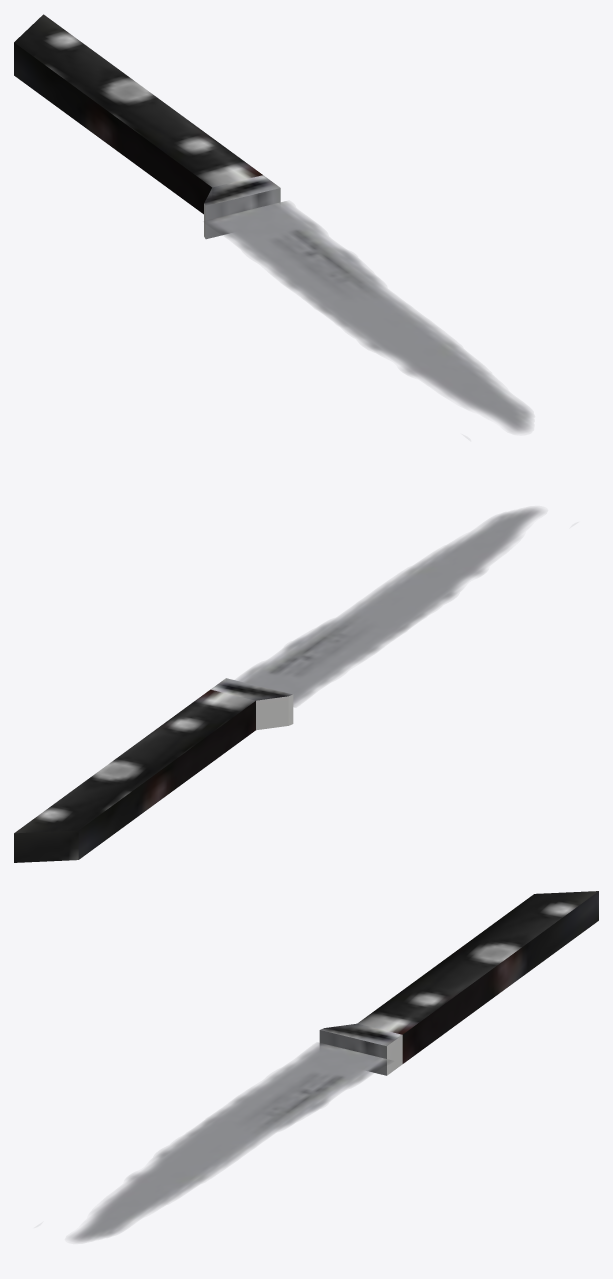
The model's file is Knife_07.glb.
The picture shows the model from 3 angles, top to bottom: view 1: azimuth 30°, elevation 25°; view 2: azimuth 150°, elevation 25°; view 3: azimuth 330°, elevation 25°; orthographic projection. The views are drawn at different scales.
Visible parts, largest first — view 1: Knife_07; view 2: Knife_07; view 3: Knife_07.
Part boxes in pixels (left/top/right/bottom): Knife_07: left=14, top=14, right=532, bottom=433; Knife_07: left=14, top=507, right=545, bottom=862; Knife_07: left=67, top=891, right=598, bottom=1242.
Bounding box in the file's own units: 0.0695 × 0.0167 × 0.5039.
1 material, 1 textured.
